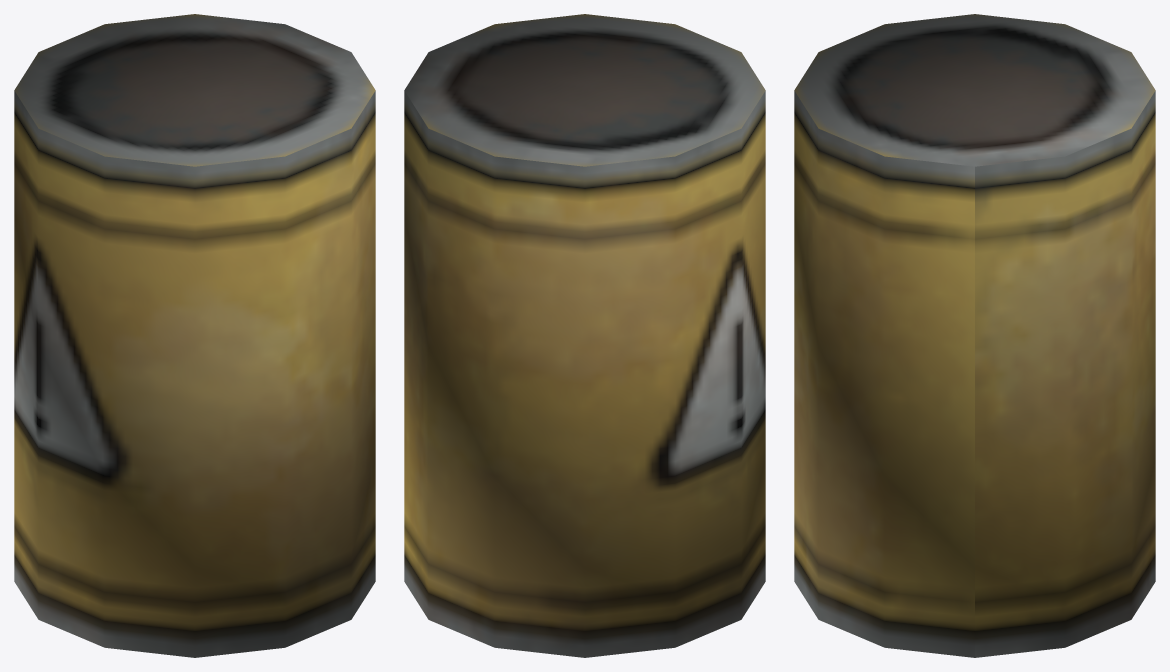
The model's file is MESH_BARRIL.fbx.
The picture shows the model from 3 angles, left to right: view 1: azimuth 30°, elevation 25°; view 2: azimuth 150°, elevation 25°; view 3: azimuth 270°, elevation 25°; orthographic projection.
Parts seen in each view (by area): view 1: MESH_BARRIL; view 2: MESH_BARRIL; view 3: MESH_BARRIL.
Part boxes in pixels (left/top/right/bottom): MESH_BARRIL: left=14, top=14, right=375, bottom=657; MESH_BARRIL: left=404, top=14, right=765, bottom=657; MESH_BARRIL: left=794, top=14, right=1155, bottom=657.
Size of the model in its own units: 0.6 by 0.9 by 0.6.
